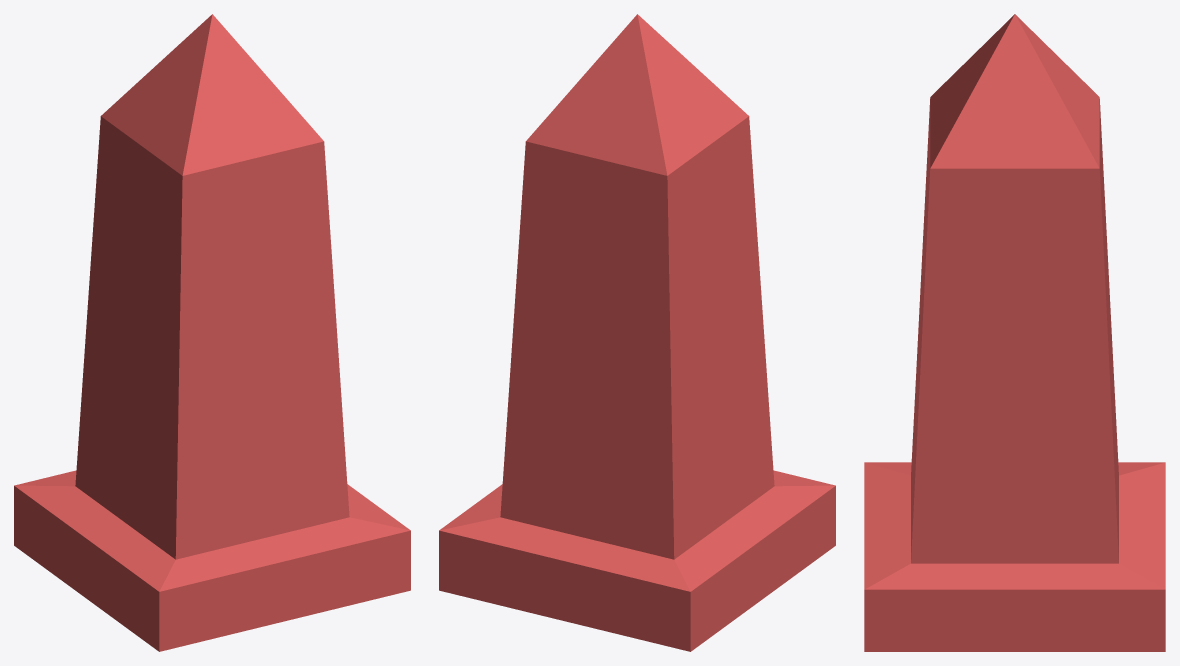
File: Prisma01_Obelisk_low.fbx
3 views of the same model, side by side, from view 1: azimuth 30°, elevation 25°; view 2: azimuth 150°, elevation 25°; view 3: azimuth 270°, elevation 25° (orthographic). The views are drawn at different scales.
Visible parts, largest first — view 1: Prisma01_Obelisk_low; view 2: Prisma01_Obelisk_low; view 3: Prisma01_Obelisk_low.
Boxes of the visible parts, x1,y1,x2,y2 form: Prisma01_Obelisk_low: (14,14,410,651); Prisma01_Obelisk_low: (439,14,835,651); Prisma01_Obelisk_low: (864,14,1165,651).
Bounding box in the file's own units: 0.9563 × 2.01 × 0.9563.
